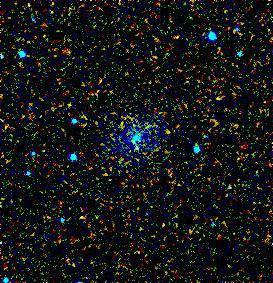star: (154, 118, 184, 148)
